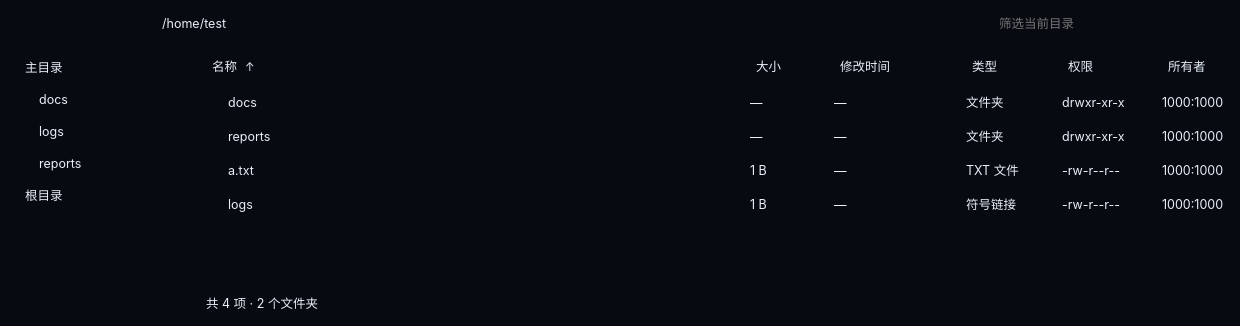
it: FilesApp › keeps keyboard navigation alive after entering a folder
Expected: the field named "当前路径" holds "/home/test", [152,8,964,40]
Double-click the option "docs — — 文件夹 drwxr-xr-x 1000:1000".
double_click(985, 102)  # box [206,95,1223,111]
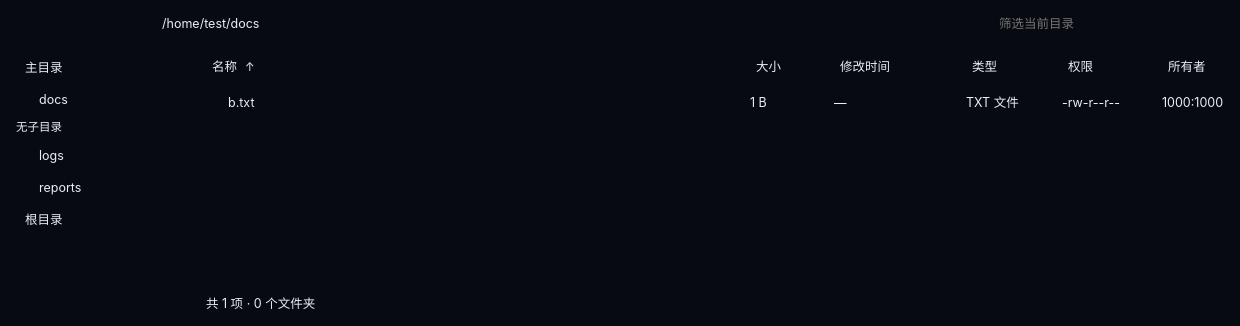
Now the field named "当前路径" holds "/home/test/docs", box [152,8,964,40]
Press Backspace in the list with class "lgfiles-list__viewport", box [206,95,1223,111]
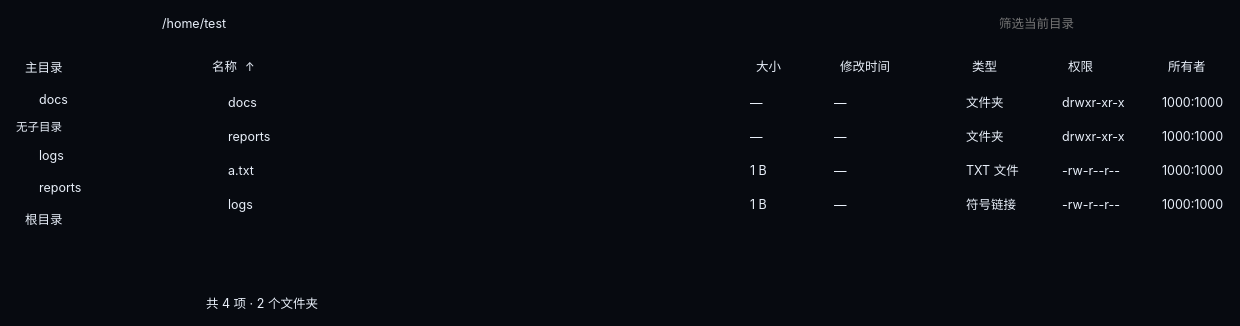
Now the field named "当前路径" holds "/home/test", box [152,8,964,40]
